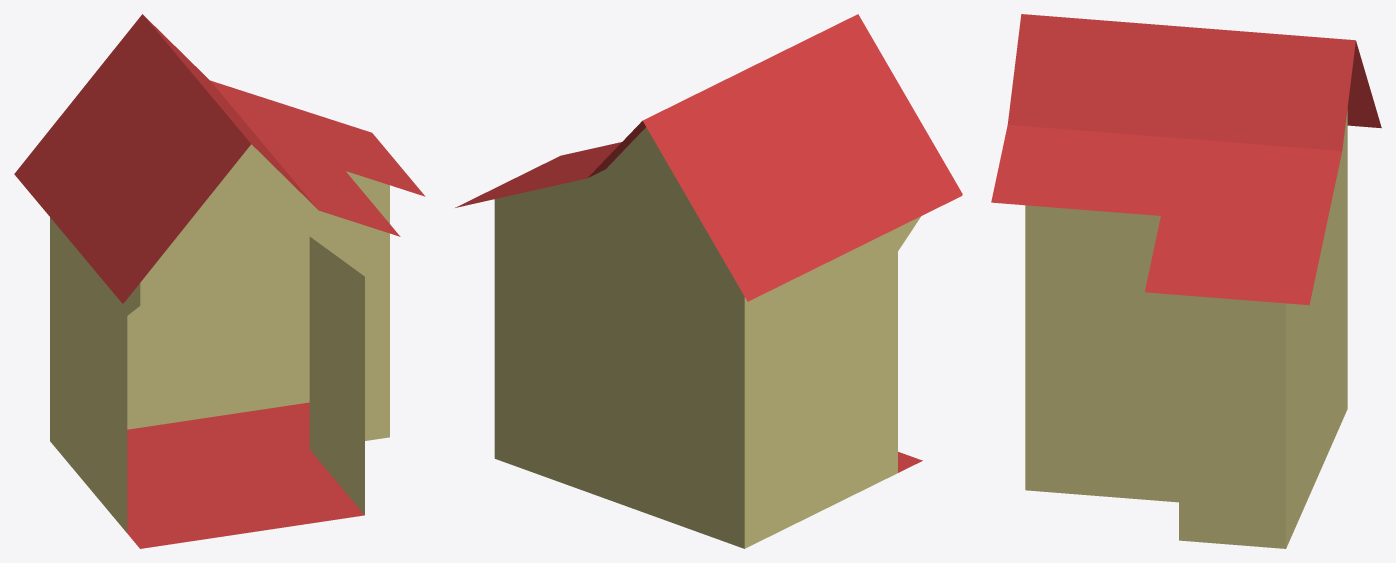
3 views of the same model, side by side, from view 1: azimuth 30°, elevation 25°; view 2: azimuth 150°, elevation 25°; view 3: azimuth 270°, elevation 25° (orthographic). The views are drawn at different scales.
Size of the model in its own units: 15.39 by 13.33 by 15.72.
